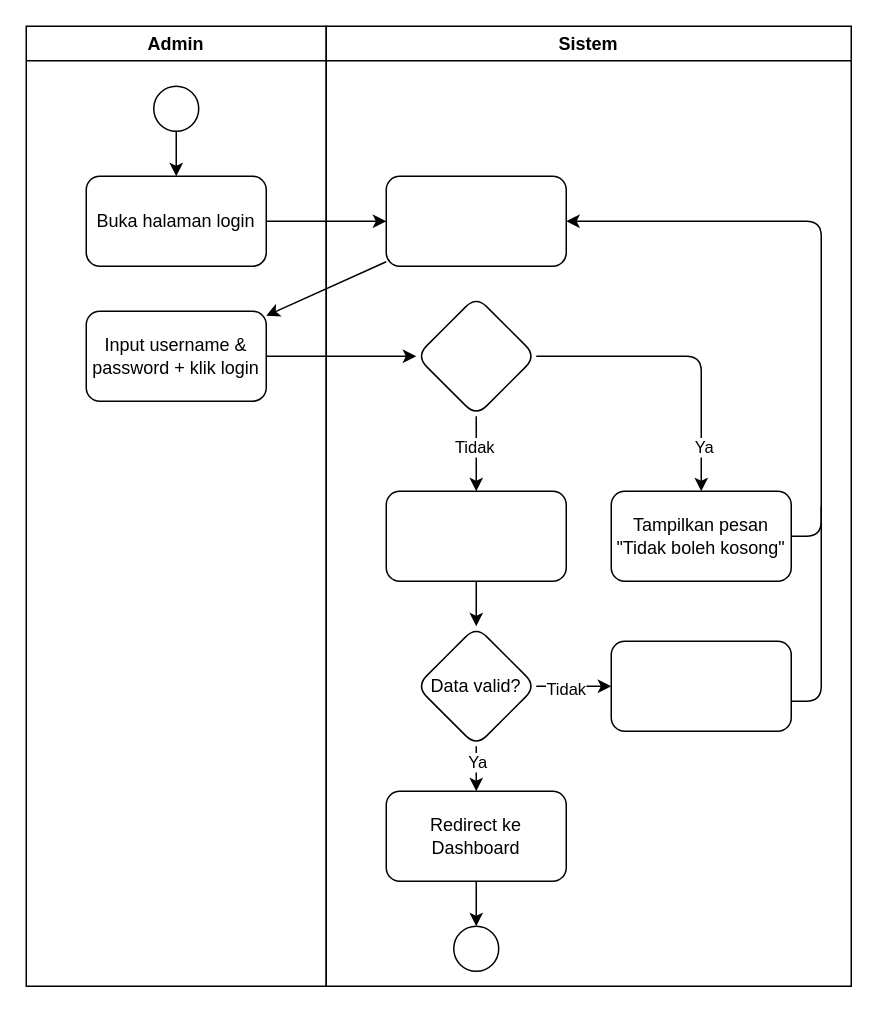
The diagram is 878 pixels wide and 1013 high, and some of its shapes have lost their labels. The shapes that lost their labels are listed below. From the top down, each one's centre as x and y in pixels, then its label:
(475,220): Tampilkan form login
(475,355): Ada kolom kosong?
(475,535): Validasi ke database
(700,685): Tampilkan pesan "Username atau Password salah"
